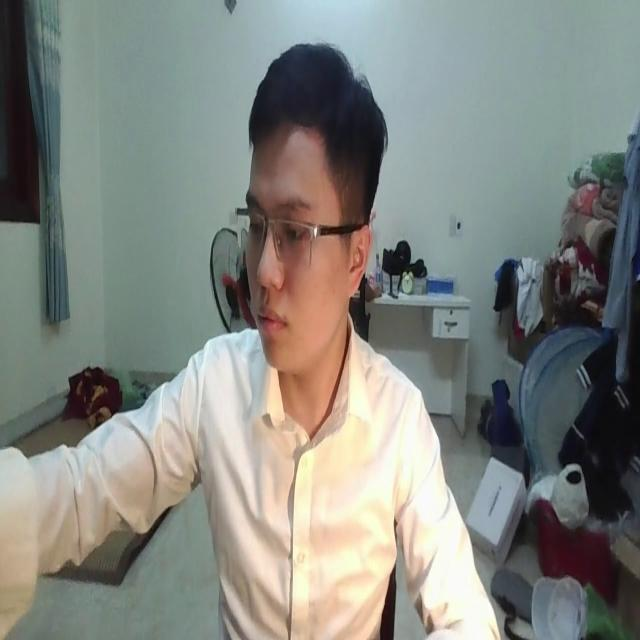student: (6, 48, 508, 640)
